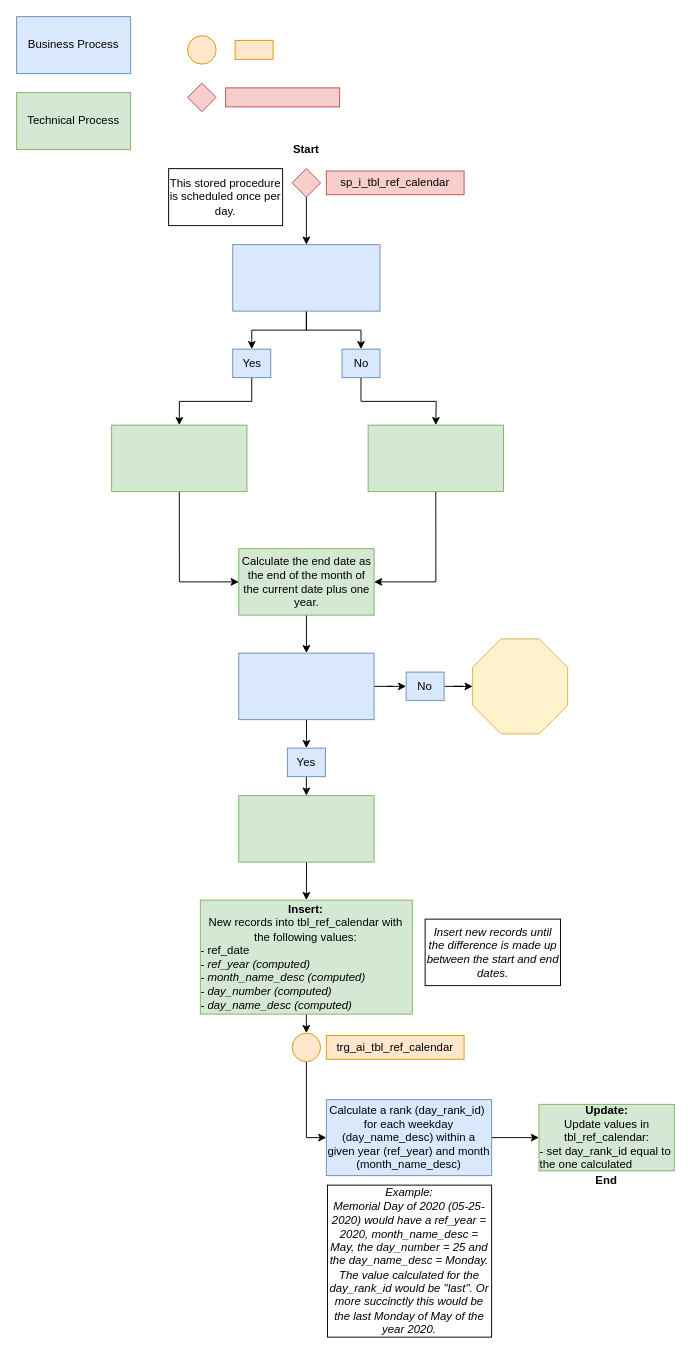
This 692x1354 diagram has some shape labels left out. The centre of each missing label's shape, as x and y in pixels:
"Calculate the difference (in days) between the start date and the end date." goes at pixel 306 828.
"Calculate the start date as the maximum date in tbl_ref_calendar plus one day." goes at pixel 179 458.
"Does tbl_ref_calendar contain any records?" goes at pixel 306 277.
"Is the start date less than or equal to the end date?" goes at pixel 306 686.
"No transaction required" goes at pixel 520 686.
"Set the start date to the default value, 2014-01-01" goes at pixel 435 458.
"Stored Procedure" goes at pixel 282 97.
"Trigger" goes at pixel 253 49.
